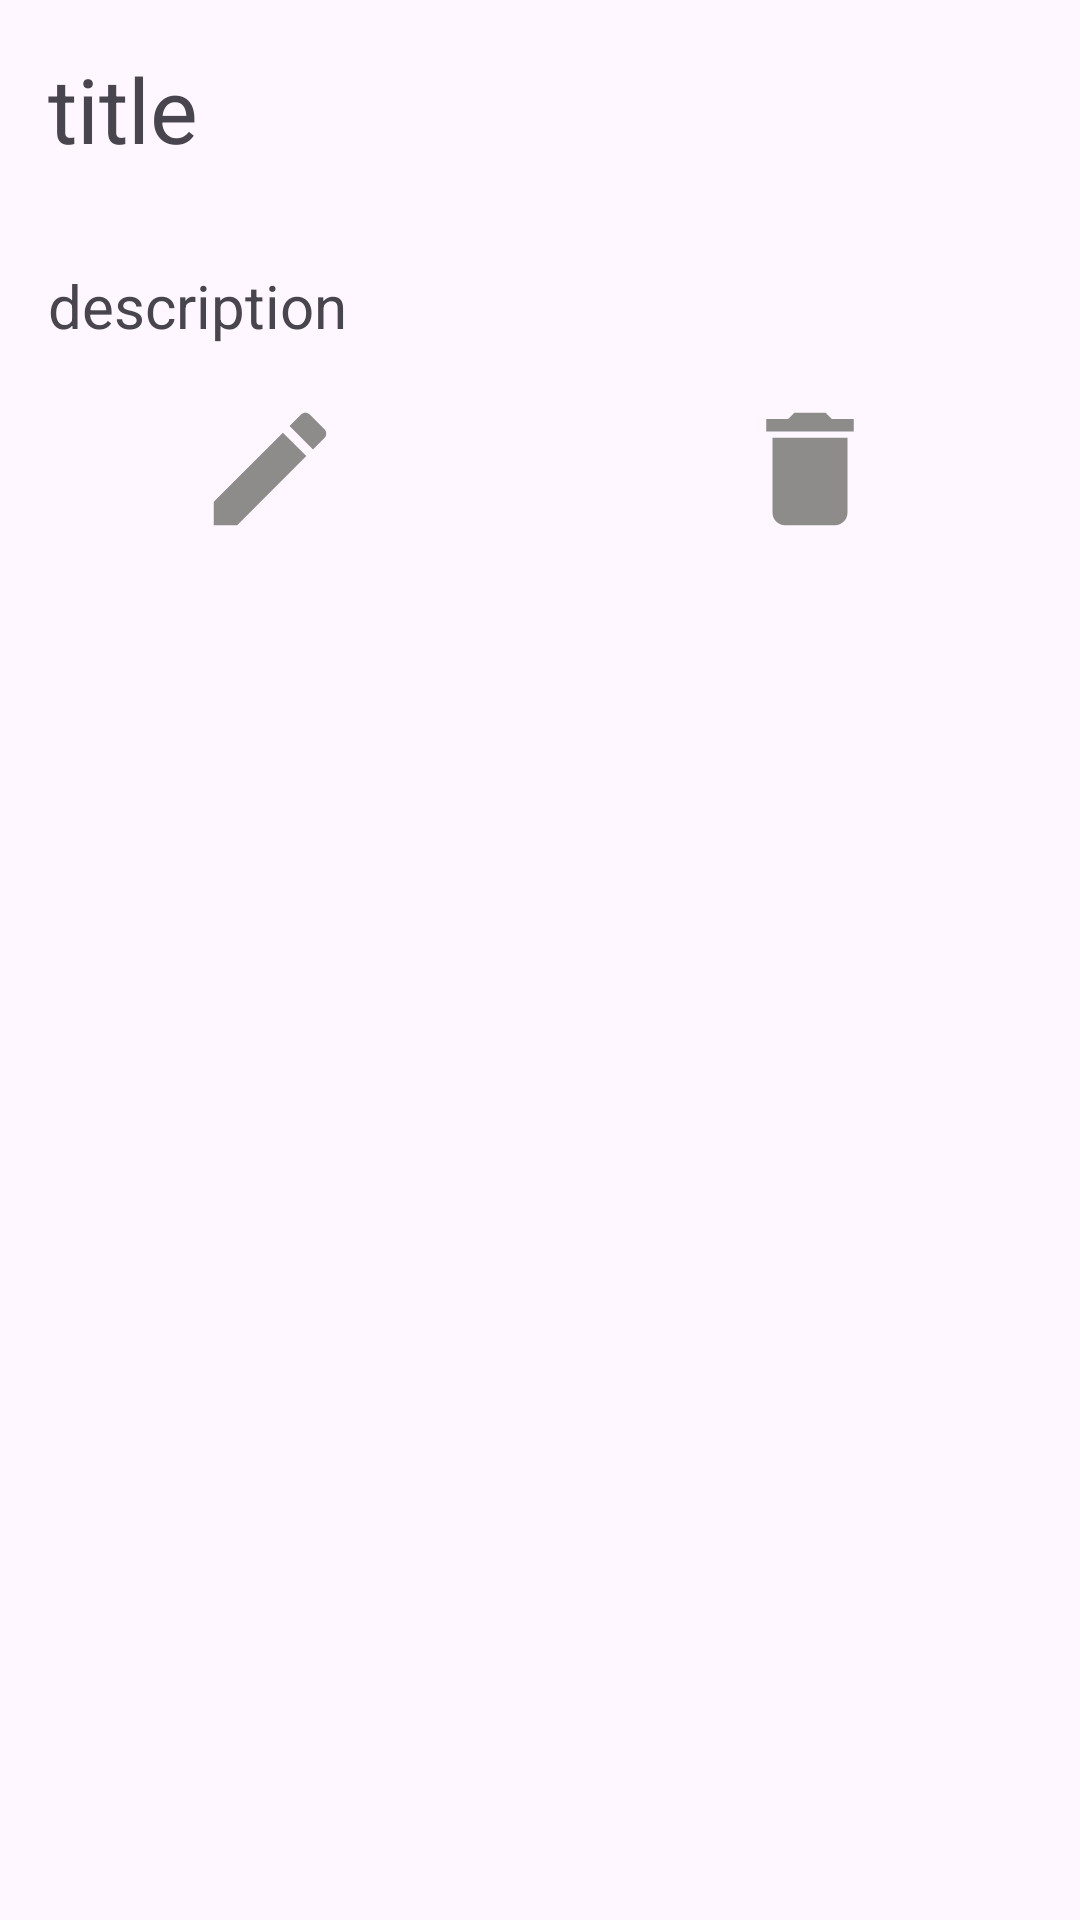

Screen size 1080 × 1920. Icon name, then its box in pixels as rect(x1, y1, x2, y2):
delete: rect(766, 412, 854, 526)
edit: rect(213, 412, 326, 526)
